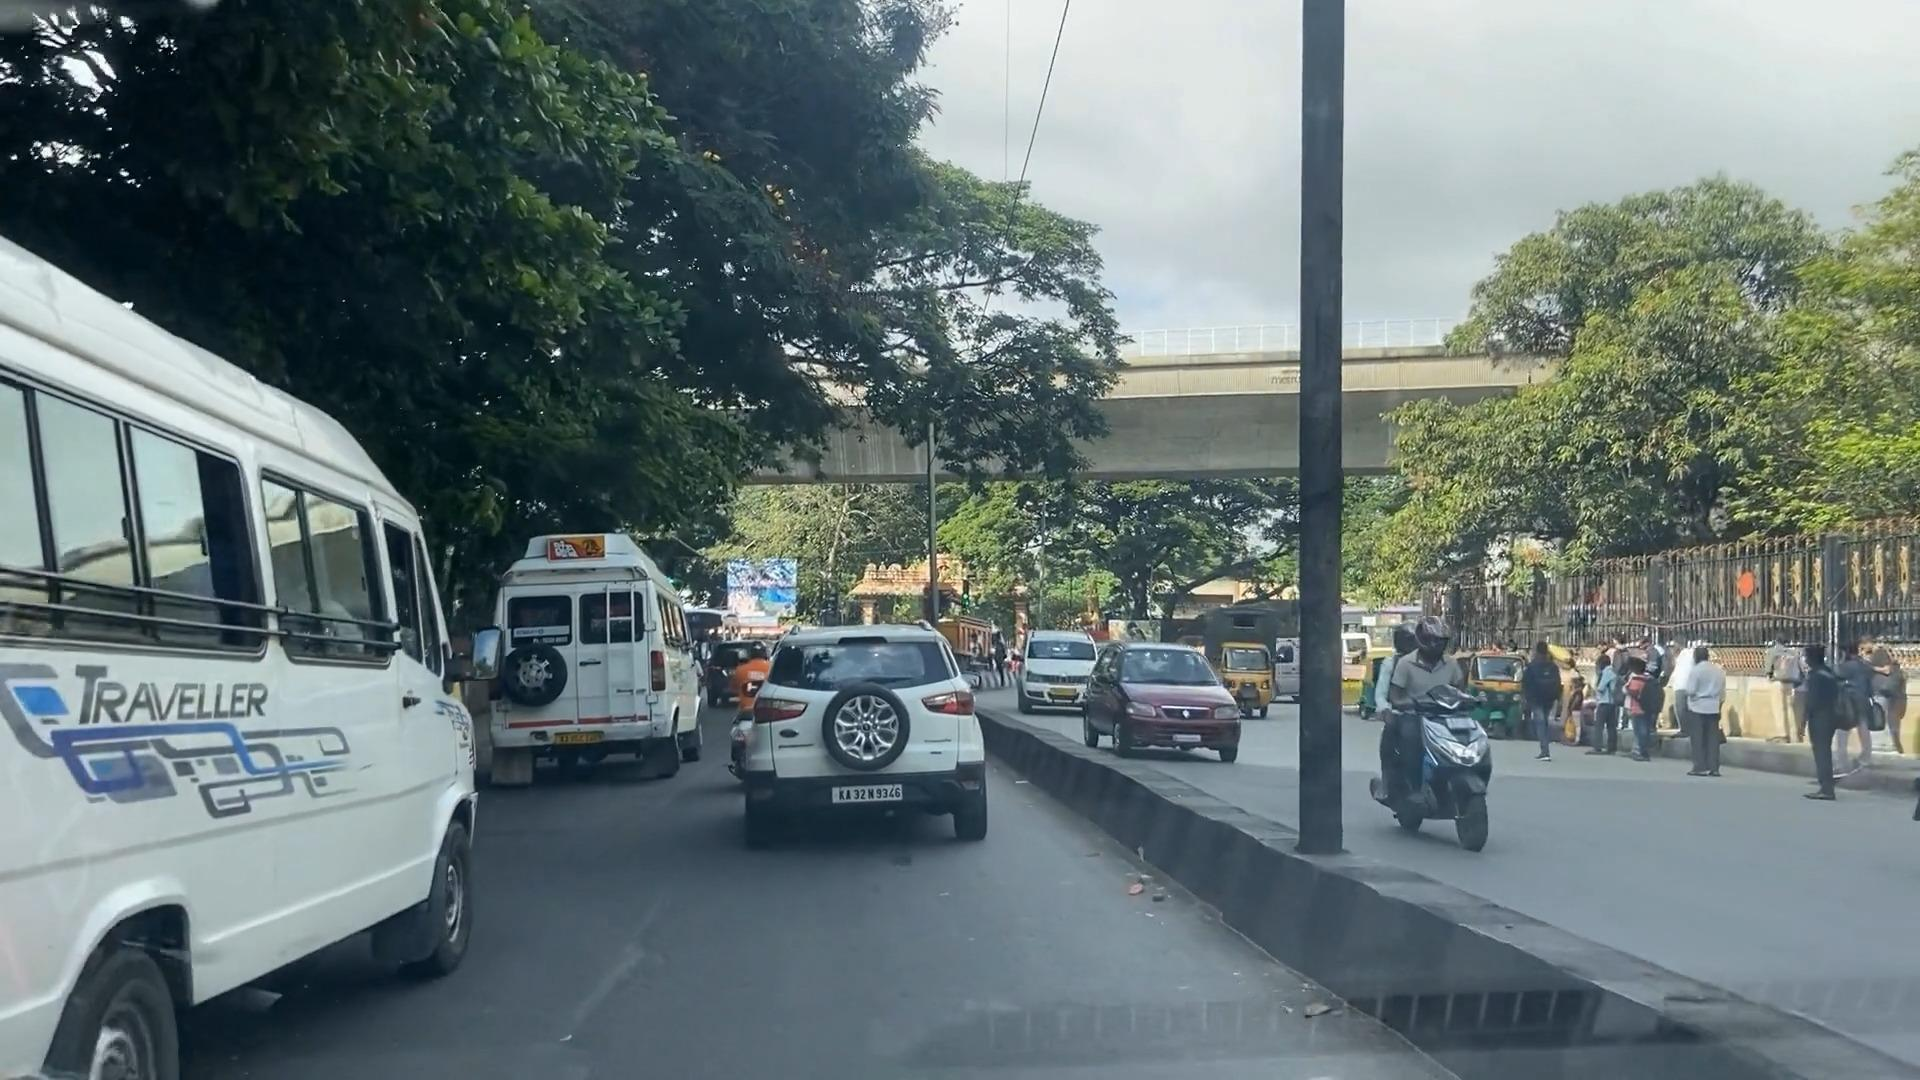HMV: (8, 220, 485, 1052), (502, 553, 702, 774)
LMV: (770, 658, 967, 836)
